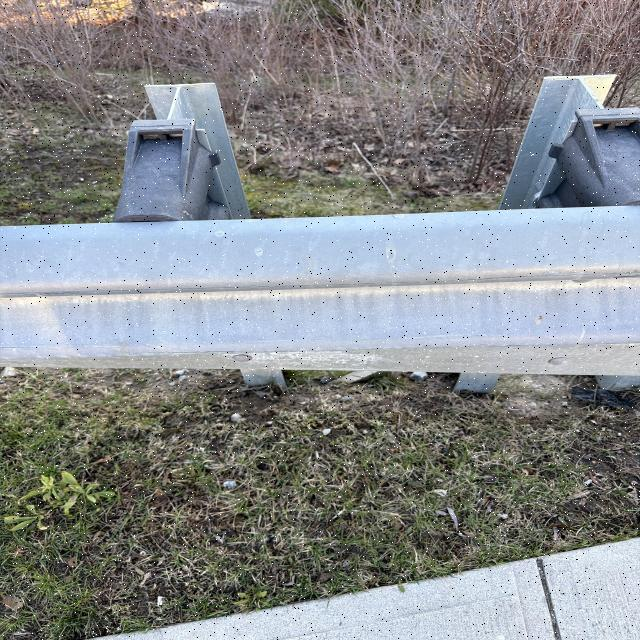Guard rail: (11, 209, 626, 364), (500, 86, 639, 208)
